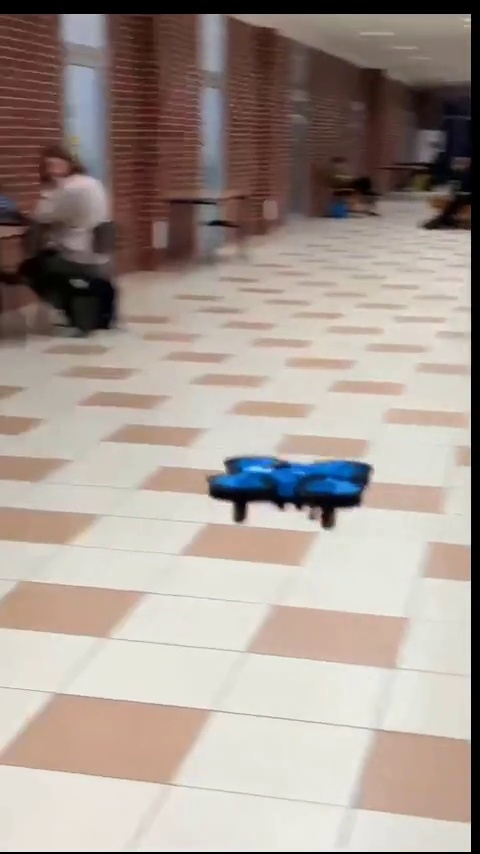drone: (208, 450, 366, 523)
no vest: (2, 147, 115, 323)
